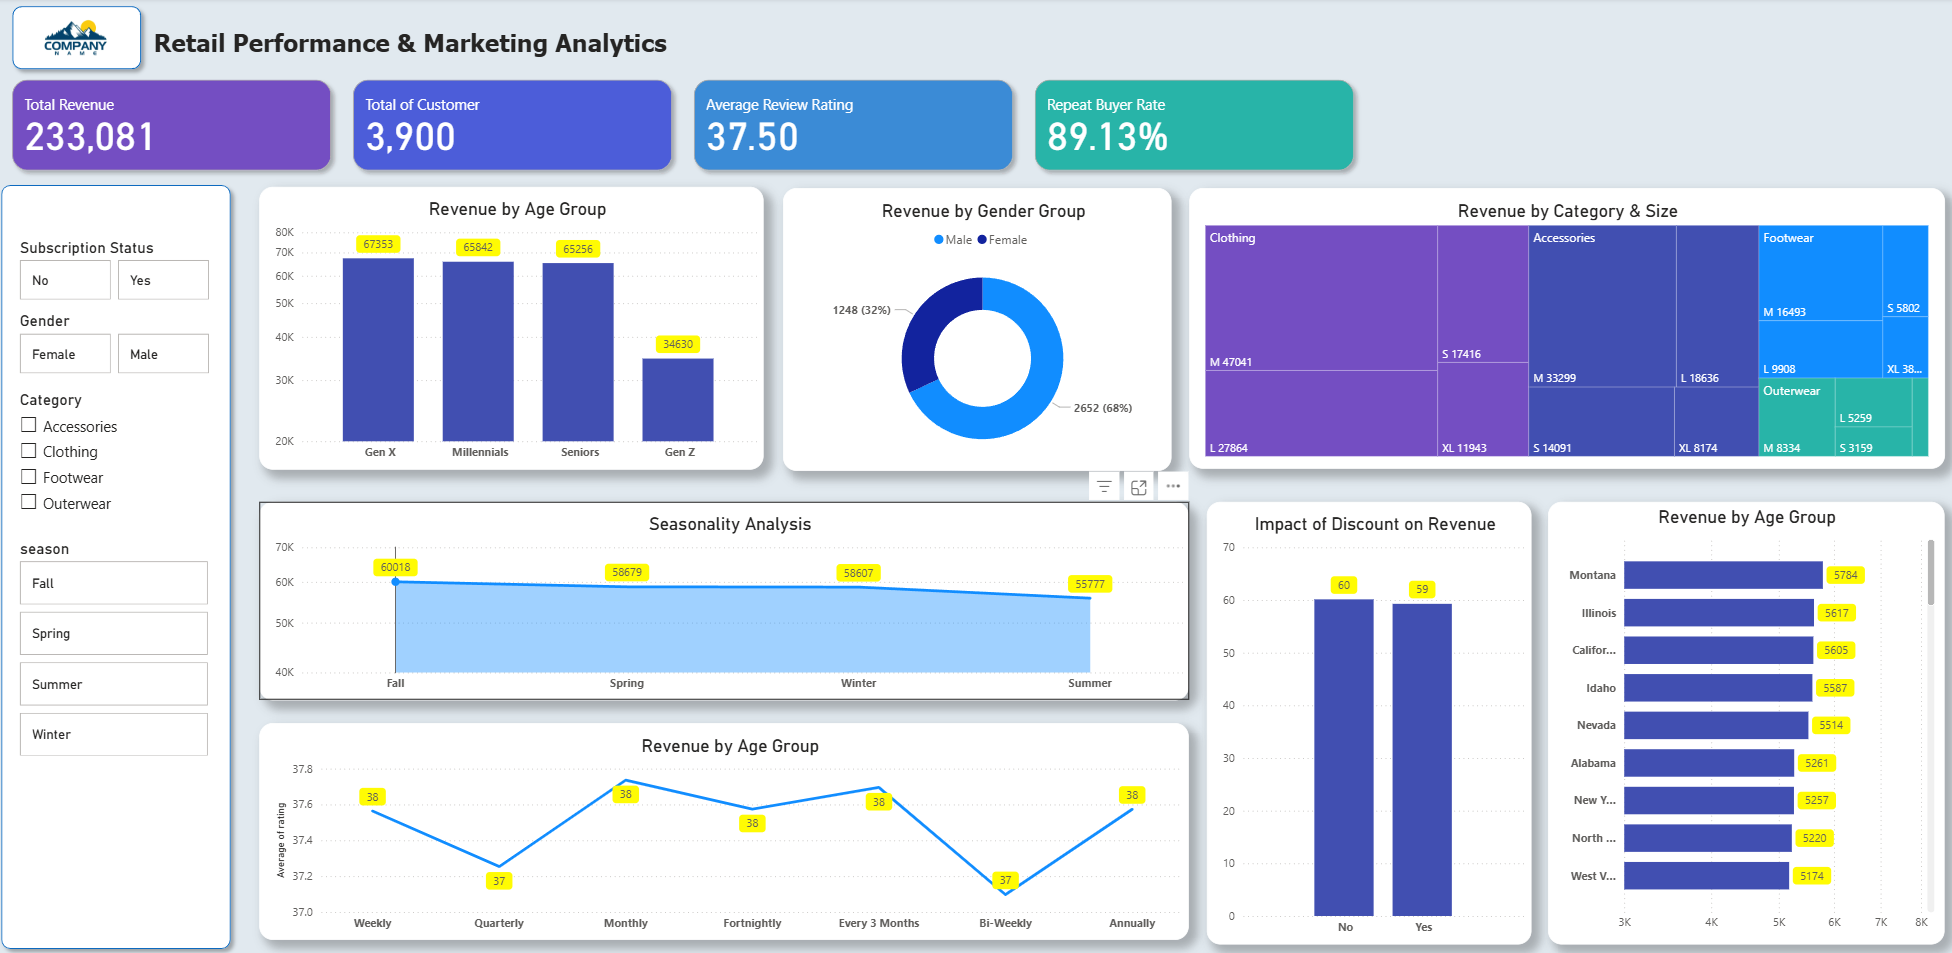

The page's visual inventory and layout, read from the dashboard file:
{"tool":"powerbi","page":{"name":"Dashboard","canvas":[2200,1080],"ordinal":0},"visuals":[{"type":"shape","box":[28.3,0,158.3,86.7],"z":0,"group":"g1"},{"type":"shape","box":[16.7,195,268.3,851.7],"z":1000},{"type":"cardVisual","fields":{"Data":["cleaned_customer_behavior.Total Revenue","cleaned_customer_behavior.Total of Customer","cleaned_customer_behavior.Average Review Rating","cleaned_customer_behavior.Repeat Buyer Rate"]},"box":[20,71.7,1498.3,133.3],"z":2000},{"type":"clusteredColumnChart","title":"Revenue by Age Group","fields":{"Category":["cleaned_customer_behavior.age_group"],"Y":["Sum(cleaned_customer_behavior.revenue)"]},"box":[307.2,205.4,550,308.6],"z":3000},{"type":"donutChart","title":"Revenue by Gender Group","fields":{"Category":["cleaned_customer_behavior.gender"],"Y":["Count(cleaned_customer_behavior.customer_id)"]},"box":[878.7,206.9,424.3,308.6],"z":4000},{"type":"areaChart","title":"Seasonality Analysis","fields":{"Y":["Sum(cleaned_customer_behavior.revenue)"],"Category":["cleaned_customer_behavior.season"]},"box":[307.2,549.7,1014.3,217.1],"z":5000},{"type":"treemap","title":"Revenue by Category & Size","fields":{"Values":["Sum(cleaned_customer_behavior.revenue)"],"Group":["cleaned_customer_behavior.category"],"Details":["cleaned_customer_behavior.size"]},"box":[1321.7,206.7,825,306.7],"z":6000},{"type":"clusteredColumnChart","title":"Impact of Discount on Revenue","fields":{"Category":["cleaned_customer_behavior.has_discount"],"Y":["Avg(cleaned_customer_behavior.revenue)"]},"box":[1341.5,549.7,354.3,482.9],"z":7000},{"type":"lineChart","title":"Revenue by Age Group","fields":{"Y":["Avg(cleaned_customer_behavior.rating)"],"Category":["cleaned_customer_behavior.Frequency of Purchases"]},"box":[307.2,791.1,1014.3,237.1],"z":8000},{"type":"clusteredBarChart","title":"Revenue by Age Group","fields":{"Category":["cleaned_customer_behavior.location"],"Y":["Sum(cleaned_customer_behavior.revenue)"]},"box":[1713,549.7,432.9,482.9],"z":9000},{"type":"advancedSlicerVisual","title":"Subscription Status","fields":{"Values":["cleaned_customer_behavior.is_subscriber"]},"box":[41.4,261.4,217.1,72.9],"z":10000},{"type":"advancedSlicerVisual","title":"Gender","fields":{"Values":["cleaned_customer_behavior.gender"]},"box":[41.4,342.9,217.1,72.9],"z":11000},{"type":"listSlicer","title":"Category","fields":{"Values":["cleaned_customer_behavior.category"]},"box":[41.4,428.6,217.1,170],"z":12000},{"type":"advancedSlicerVisual","fields":{"Values":["cleaned_customer_behavior.season"]},"box":[41.4,590,215.7,244.3],"z":13000},{"type":"textbox","box":[186.7,26.7,583.3,45],"z":14000},{"type":"image","box":[40,14.8,133.7,57],"z":15000,"group":"g1"},{"type":"group","id":"g1","title":"Group 1","box":[28.3,0,158.3,86.7],"z":15001}]}

Visuals, with their boxes in screenshot pixels (x1, y1, x2, y2), scaled from the page's 2200x1080 canvas onto the 1952x953 screenshot:
shape: detection(25, 0, 166, 77)
shape: detection(15, 172, 253, 924)
cardVisual - cleaned_customer_behavior.Total Revenue x cleaned_customer_behavior.Total of Customer: detection(18, 63, 1347, 181)
"Revenue by Age Group" clusteredColumnChart: detection(273, 181, 761, 454)
"Revenue by Gender Group" donutChart: detection(780, 183, 1156, 455)
"Seasonality Analysis" areaChart: detection(273, 485, 1173, 677)
"Revenue by Category & Size" treemap: detection(1173, 182, 1905, 453)
"Impact of Discount on Revenue" clusteredColumnChart: detection(1190, 485, 1505, 911)
"Revenue by Age Group" lineChart: detection(273, 698, 1173, 907)
"Revenue by Age Group" clusteredBarChart: detection(1520, 485, 1904, 911)
"Subscription Status" advancedSlicerVisual: detection(37, 231, 229, 295)
"Gender" advancedSlicerVisual: detection(37, 303, 229, 367)
"Category" listSlicer: detection(37, 378, 229, 528)
advancedSlicerVisual - cleaned_customer_behavior.season: detection(37, 521, 228, 736)
textbox: detection(166, 24, 683, 63)
image: detection(35, 13, 154, 63)
"Group 1" group: detection(25, 0, 166, 77)
